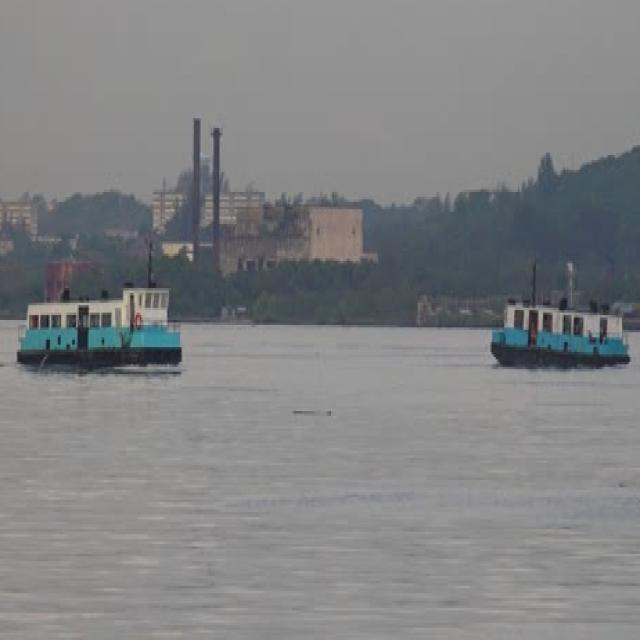fishing boat: (18, 268, 185, 363), (489, 282, 631, 366)
